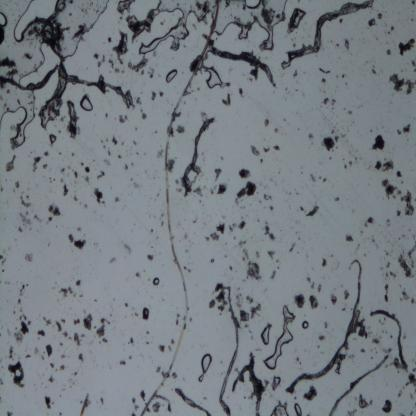Air bubble: (138, 0, 212, 55), (0, 86, 37, 151), (263, 306, 294, 370), (12, 0, 57, 42), (174, 386, 207, 414), (286, 8, 305, 37), (205, 67, 229, 89), (198, 353, 212, 384), (260, 320, 272, 343), (270, 401, 289, 415), (79, 95, 94, 112), (270, 376, 282, 390), (0, 10, 9, 28), (166, 70, 177, 83), (294, 404, 302, 415), (302, 319, 309, 330), (152, 278, 160, 286)
Background material: (380, 179, 416, 217), (12, 281, 30, 343), (13, 193, 39, 235), (81, 312, 109, 345), (62, 100, 82, 140), (39, 315, 70, 339), (110, 32, 130, 66), (397, 244, 416, 278), (388, 73, 416, 96), (209, 282, 227, 316), (237, 303, 265, 324), (8, 360, 26, 390), (317, 130, 340, 152), (237, 180, 257, 205), (244, 260, 265, 282), (397, 372, 416, 396), (58, 279, 83, 297), (335, 149, 360, 167), (213, 167, 227, 197), (0, 58, 19, 79), (68, 233, 88, 251), (355, 316, 370, 340), (208, 222, 224, 243), (398, 38, 416, 56), (126, 57, 149, 71), (136, 95, 148, 121), (370, 134, 387, 152), (71, 21, 87, 40), (46, 203, 62, 222), (306, 291, 321, 310), (263, 222, 277, 242), (381, 248, 393, 271), (101, 135, 112, 160), (4, 154, 17, 174), (358, 394, 374, 410), (127, 393, 139, 414), (327, 288, 340, 307), (375, 160, 395, 172), (91, 52, 107, 67), (80, 392, 90, 416), (398, 290, 414, 305), (156, 398, 171, 413), (228, 220, 248, 231), (94, 166, 107, 182), (294, 292, 306, 309), (305, 206, 321, 218), (236, 166, 252, 178), (368, 336, 382, 349), (130, 264, 142, 279), (94, 189, 106, 204), (0, 252, 7, 276), (345, 104, 357, 118), (116, 110, 128, 124), (381, 399, 393, 413), (391, 356, 403, 370), (166, 157, 176, 173), (32, 156, 42, 172), (140, 306, 150, 322), (155, 366, 167, 379), (324, 98, 337, 110), (292, 64, 303, 78), (246, 351, 256, 366), (383, 283, 390, 304), (250, 145, 262, 157), (262, 190, 274, 202), (364, 215, 376, 227), (316, 331, 327, 344), (44, 344, 54, 358), (306, 277, 316, 291), (221, 92, 231, 106), (174, 310, 182, 327), (48, 133, 57, 148), (43, 395, 52, 410), (24, 253, 35, 265), (72, 334, 81, 348), (118, 356, 128, 368), (74, 190, 84, 202), (402, 123, 412, 135), (156, 144, 164, 159), (72, 166, 80, 181), (241, 249, 250, 262), (369, 64, 379, 75), (127, 336, 138, 346), (157, 343, 166, 355), (149, 89, 157, 102), (107, 256, 117, 266), (46, 373, 56, 383), (176, 125, 186, 135), (269, 269, 278, 280), (267, 249, 276, 260), (62, 184, 69, 198), (385, 272, 397, 280), (320, 256, 328, 268), (387, 23, 394, 36), (318, 68, 331, 75), (146, 251, 154, 262), (8, 345, 14, 359), (168, 342, 175, 354), (105, 107, 112, 119), (139, 391, 146, 403), (310, 172, 317, 184), (83, 165, 92, 174), (345, 233, 354, 242), (78, 352, 86, 362), (282, 61, 292, 69), (344, 39, 350, 52), (13, 178, 20, 189), (112, 136, 119, 147), (307, 133, 315, 142), (84, 175, 91, 185), (343, 290, 350, 300), (124, 298, 130, 309), (288, 242, 294, 253), (238, 87, 244, 98), (59, 363, 67, 371), (321, 74, 329, 82), (128, 140, 136, 148), (376, 12, 383, 21), (396, 169, 402, 179), (210, 256, 217, 264), (369, 18, 376, 26), (334, 194, 340, 203), (264, 118, 270, 127), (322, 175, 327, 185), (124, 162, 129, 172), (386, 48, 392, 56), (274, 145, 280, 153), (317, 283, 322, 292), (43, 150, 48, 158), (173, 374, 178, 381), (41, 165, 48, 170), (100, 399, 105, 404)
Cellulose filter fibre: (285, 259, 362, 394), (285, 0, 374, 59), (0, 72, 129, 106), (328, 354, 390, 415), (37, 2, 68, 108), (208, 45, 276, 86), (181, 117, 217, 193), (218, 285, 239, 415), (370, 309, 410, 369), (232, 365, 262, 415)
